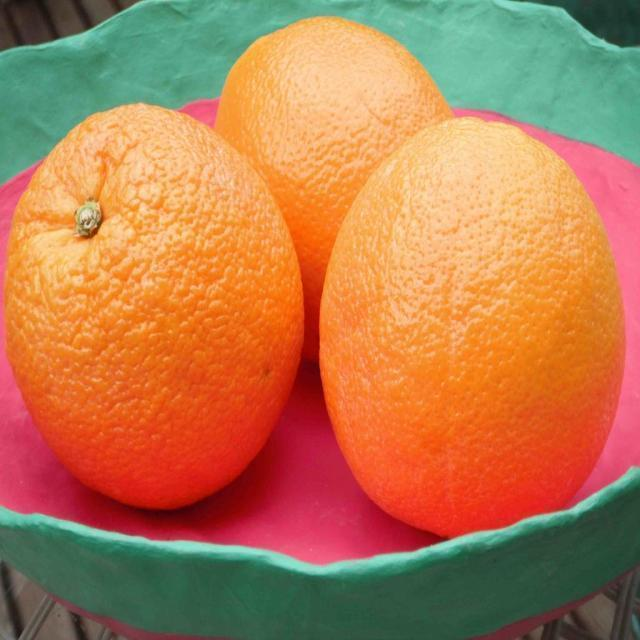Orange: (316, 114, 626, 538), (3, 101, 305, 511), (212, 14, 453, 363)
